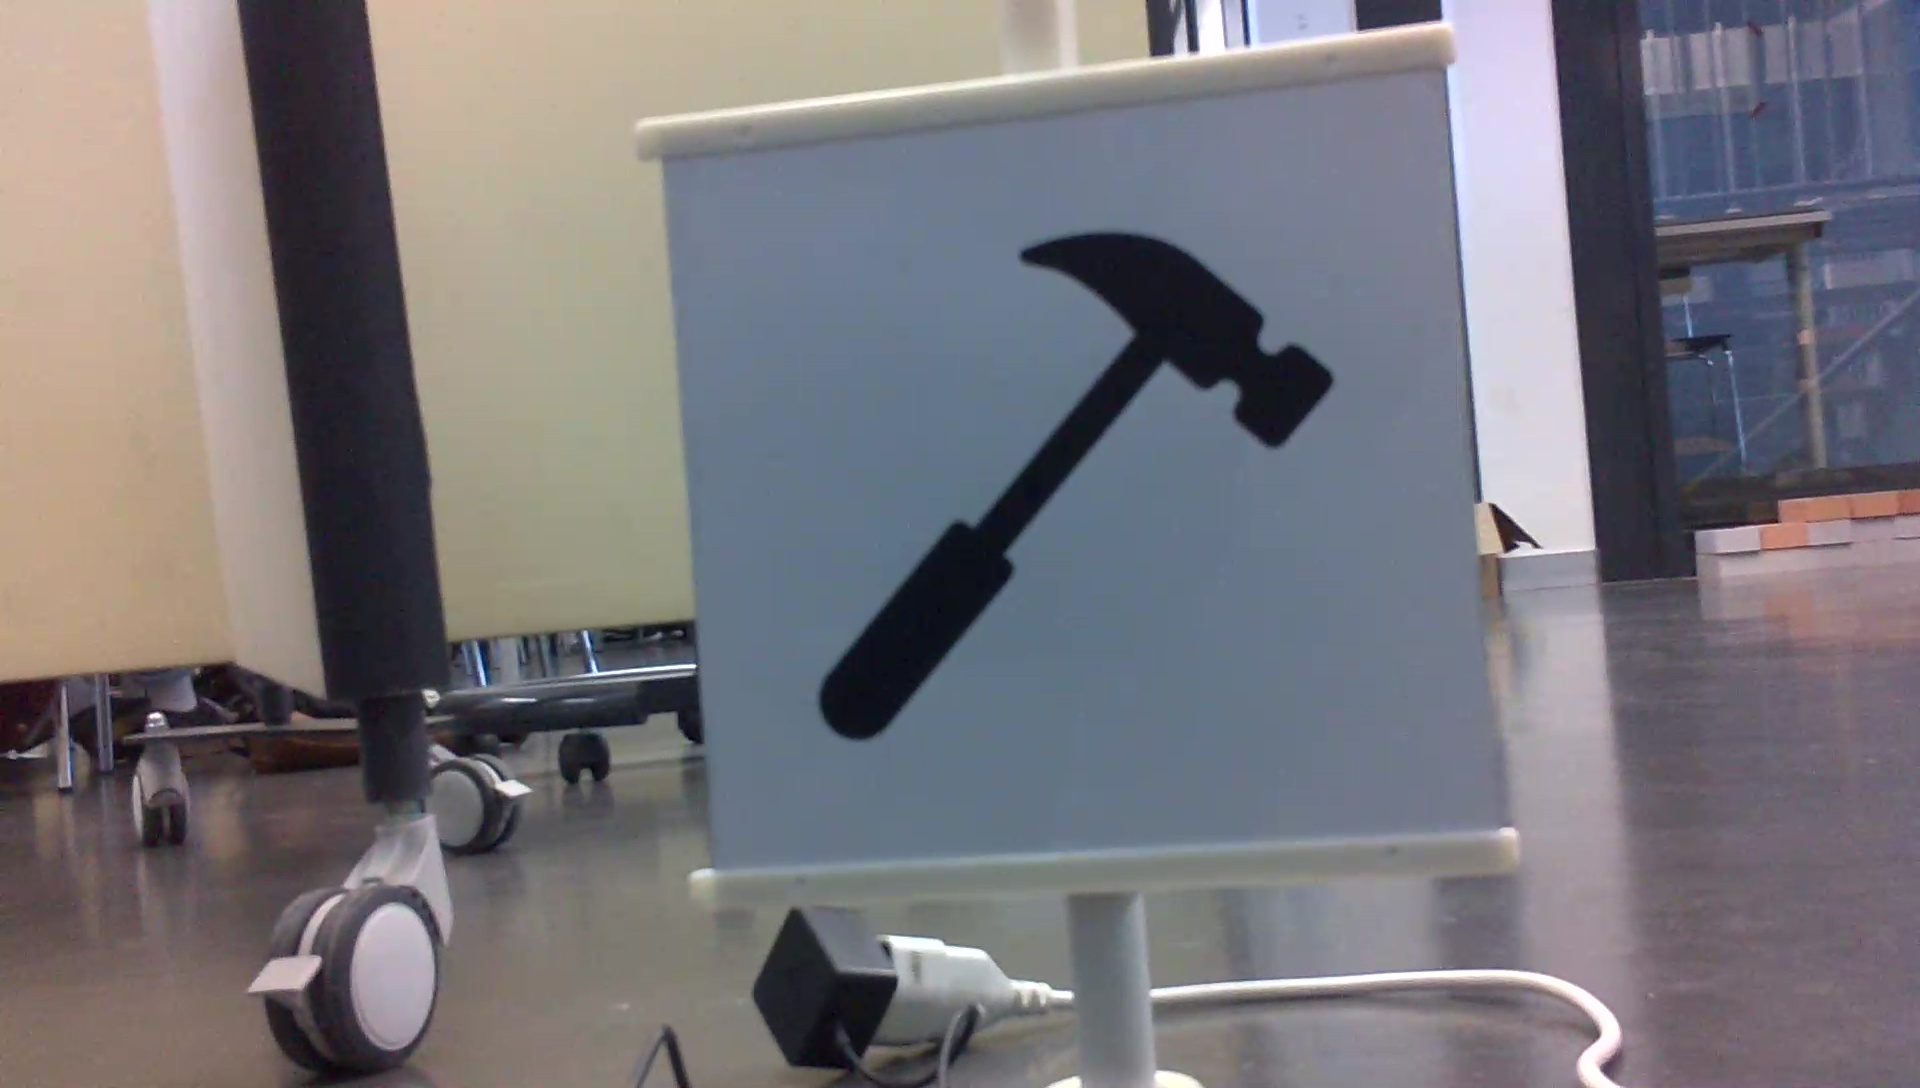hammer: (804, 218, 1342, 745)
